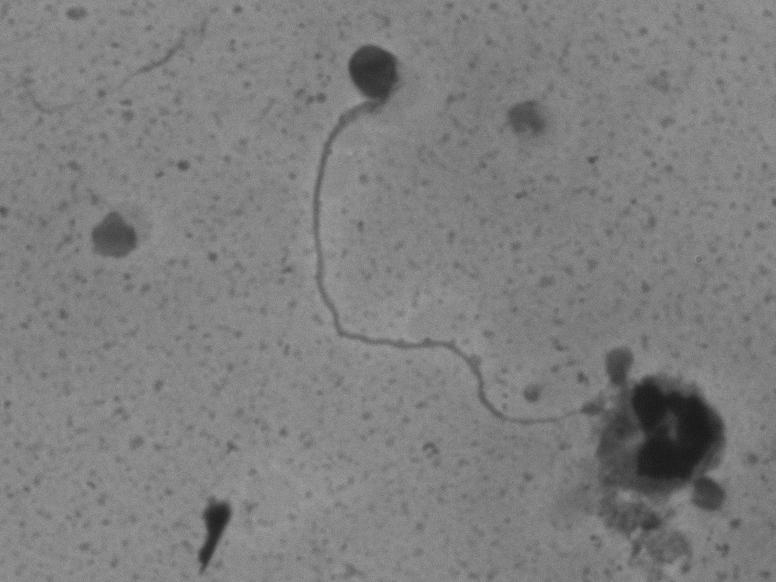Abnormal: (240, 39, 607, 460)
